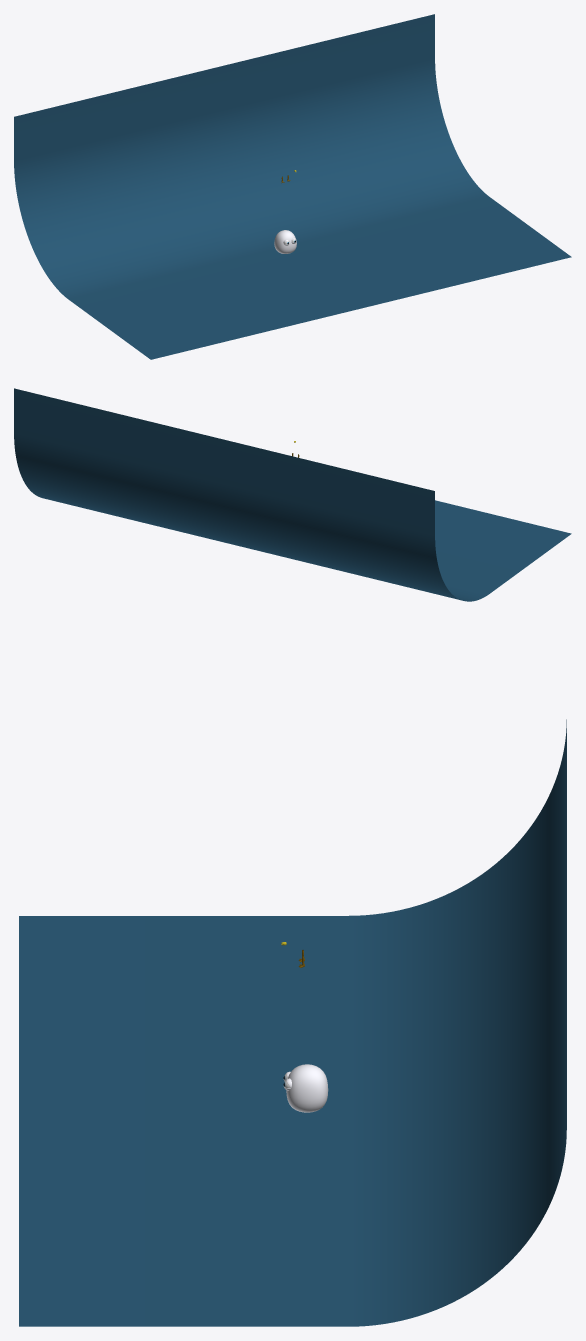
File: caterpillareyes.fbx
The picture shows the model from 3 angles, top to bottom: view 1: azimuth 30°, elevation 25°; view 2: azimuth 150°, elevation 25°; view 3: azimuth 270°, elevation 25°; orthographic projection. The views are drawn at different scales.
Parts seen in each view (by area): view 1: Plane; view 2: Plane; view 3: Plane, Cube.
Boxes of the visible parts, box(x1,y1,x2,y2) form: Plane: box(14, 14, 571, 359); Plane: box(14, 388, 571, 601); Plane: box(19, 719, 566, 1326); Cube: box(286, 1064, 328, 1112).
Bounding box in the file's own units: 3226 × 1046 × 1817.
